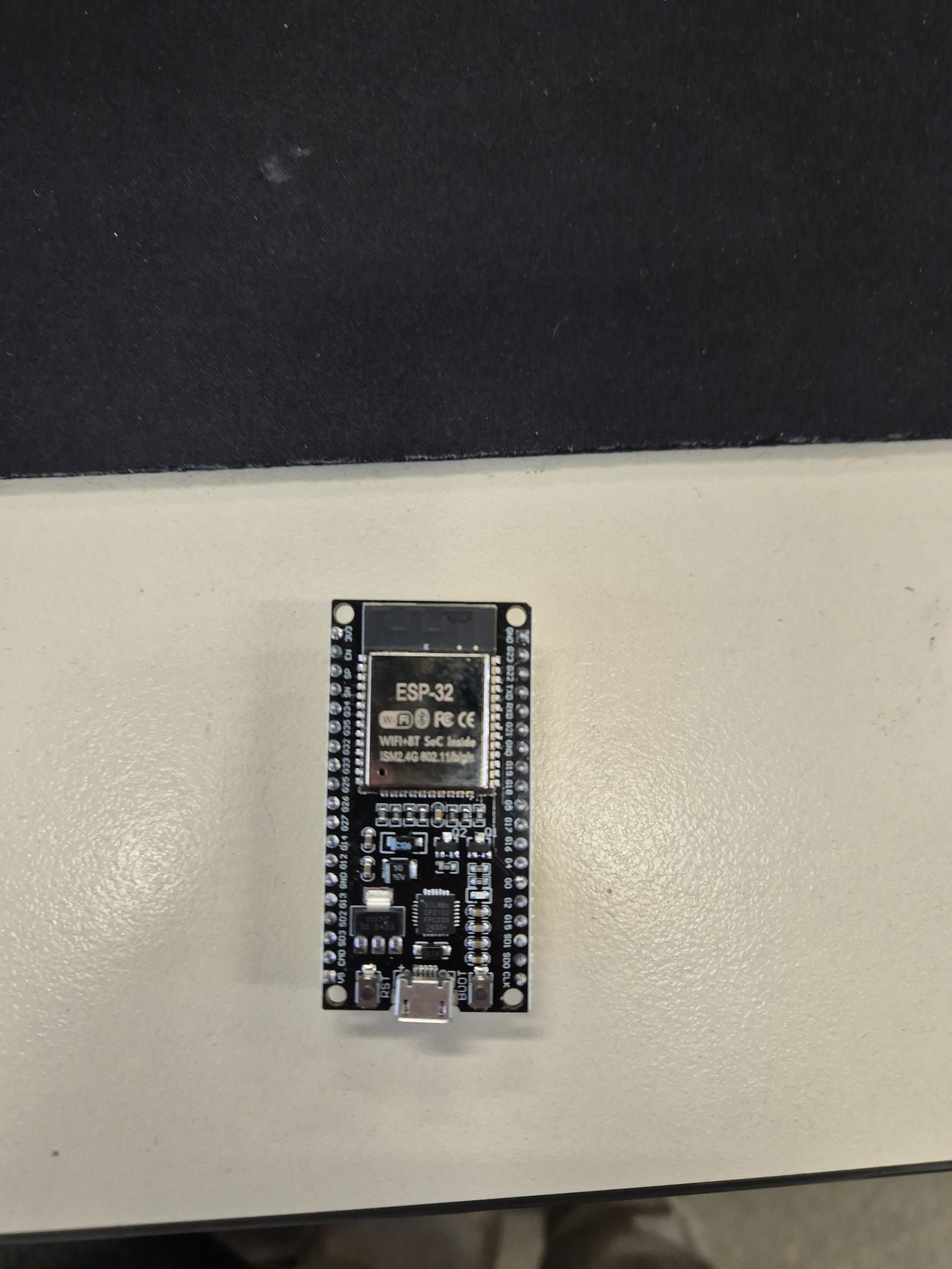esp32-dev: (324, 601, 531, 1022)
